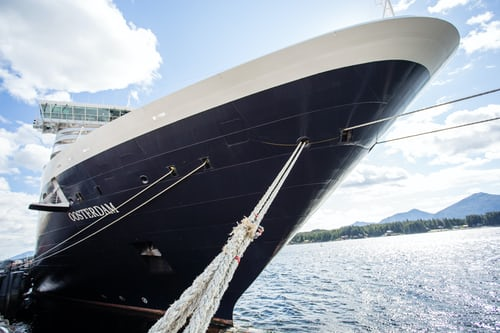yacht: (36, 86, 346, 323)
